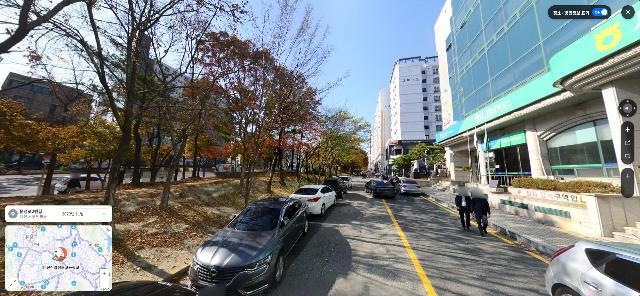other: (0, 0, 264, 220), (195, 0, 342, 201), (0, 98, 111, 196), (301, 108, 369, 183), (398, 138, 446, 177)
